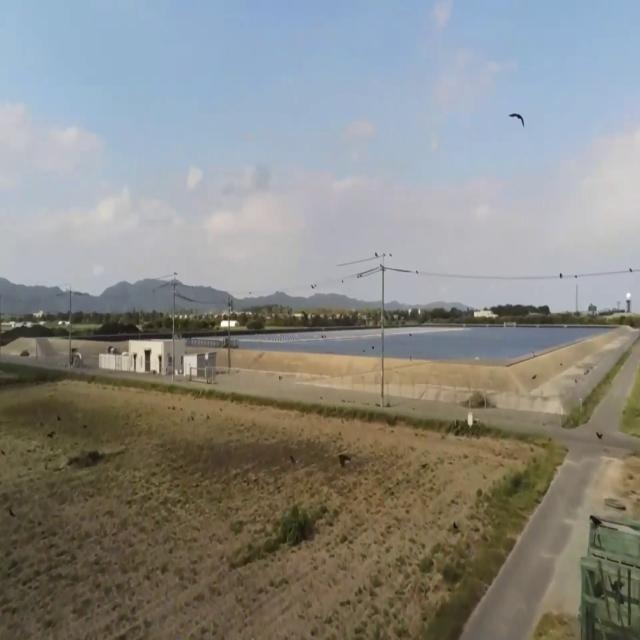bird: (509, 102, 525, 140), (596, 424, 603, 447), (290, 447, 296, 468)
